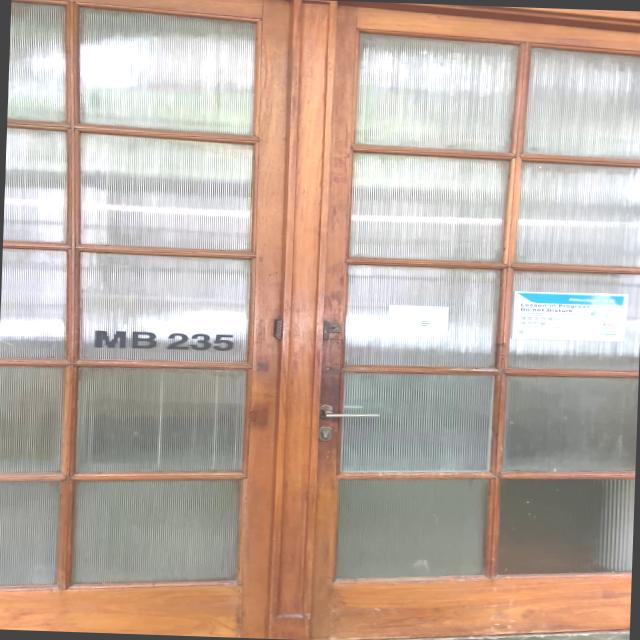room235Window: (86, 326, 240, 353)
